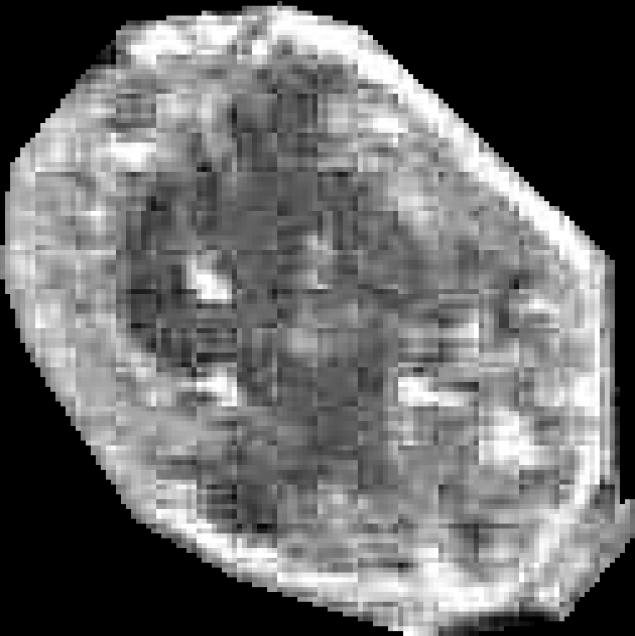tumor_moderate_chance: (0, 1, 635, 636)
